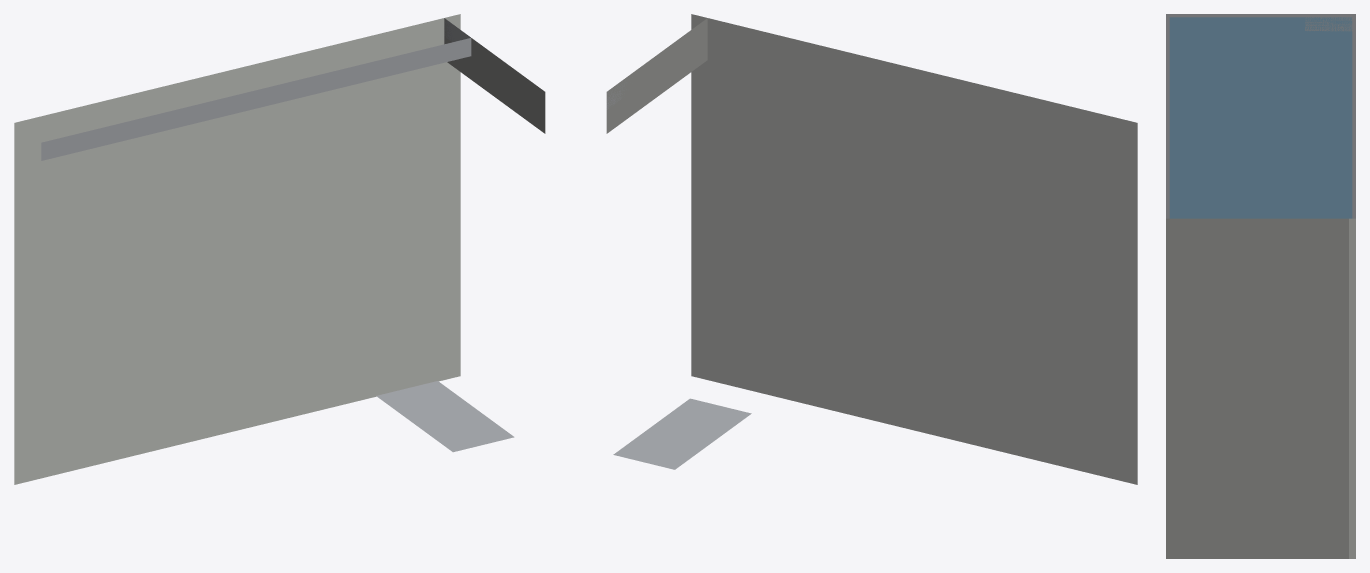
3 views of the same model, side by side, from view 1: azimuth 30°, elevation 25°; view 2: azimuth 150°, elevation 25°; view 3: azimuth 270°, elevation 25° (orthographic). The views are drawn at different scales.
Visible parts, largest first — view 1: marble, metal, concrete; view 2: ceiling_board, metal, concrete; view 3: concrete, glass, metal, marble.
Part boxes in pixels (x1,y1,x2,y2): marble: (14, 14, 460, 484); metal: (41, 19, 514, 452); concrete: (444, 18, 545, 133); ceiling_board: (691, 14, 1137, 484); metal: (606, 77, 751, 469); concrete: (606, 18, 707, 133); concrete: (1166, 218, 1348, 558); glass: (1169, 17, 1352, 218); metal: (1166, 14, 1355, 218); marble: (1349, 218, 1355, 558).
Size of the model in its own units: 6.86 by 5.32 by 2.69.
